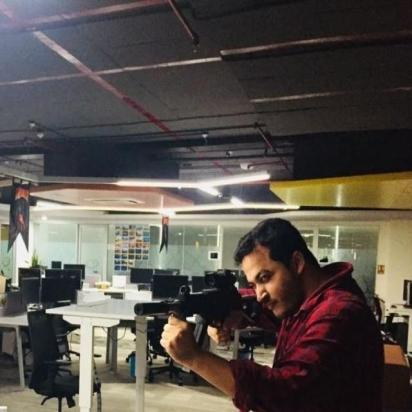Gun: (132, 268, 264, 351)
